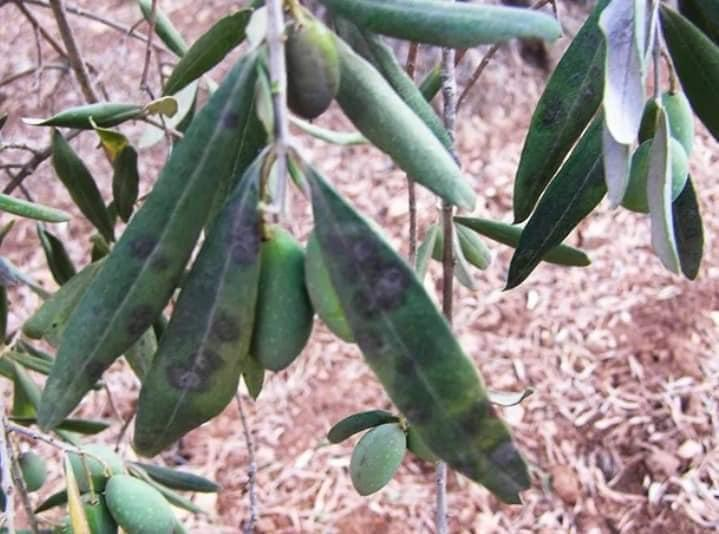OlivePeacockSpot: (35, 52, 259, 434), (302, 180, 530, 506), (132, 152, 270, 450), (512, 21, 602, 222)
